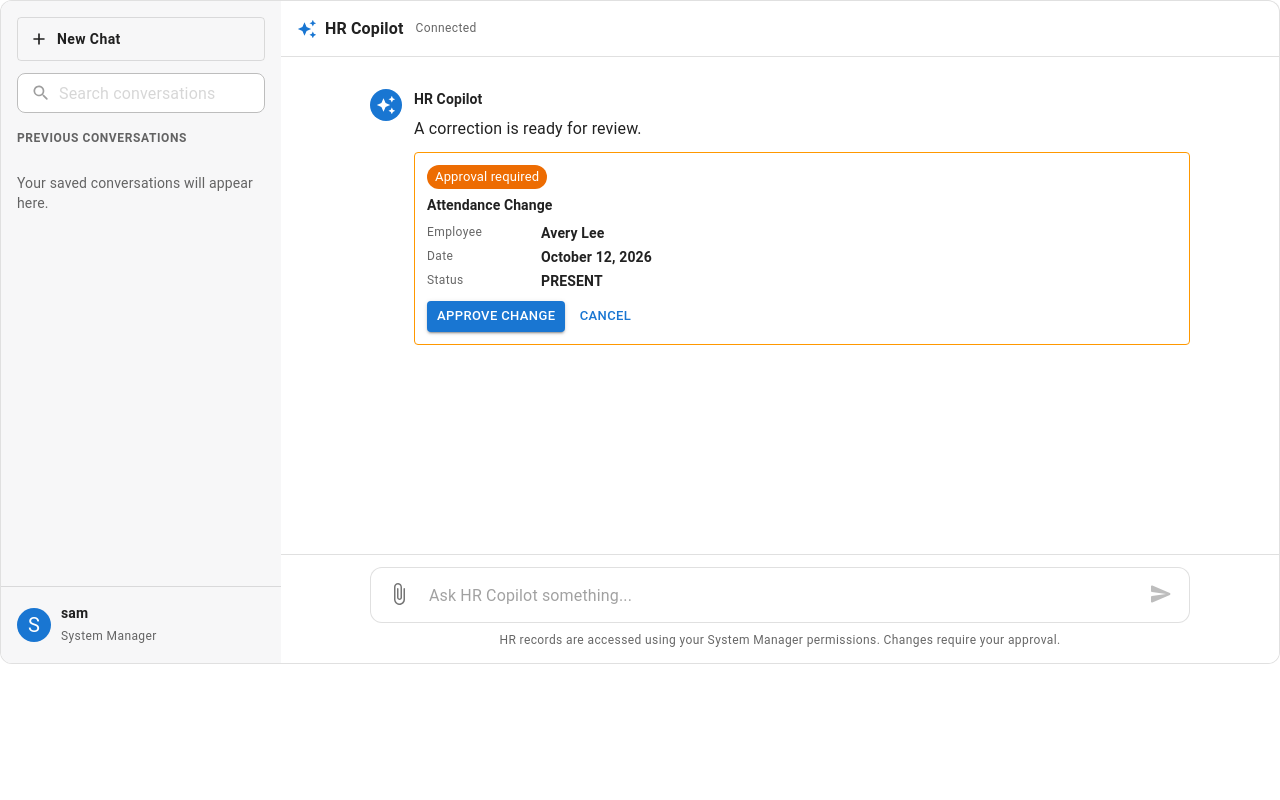
Scenario: restores and cancels a pending approval while preserving its response
Expected: the text "A correction is ready for review." is shown, [414, 119, 642, 138]
Expected: the text "Avery Lee" is shown, [541, 225, 604, 241]
Click the button "Cancel". click: {"x": 605, "y": 317}
box: [573, 301, 637, 332]
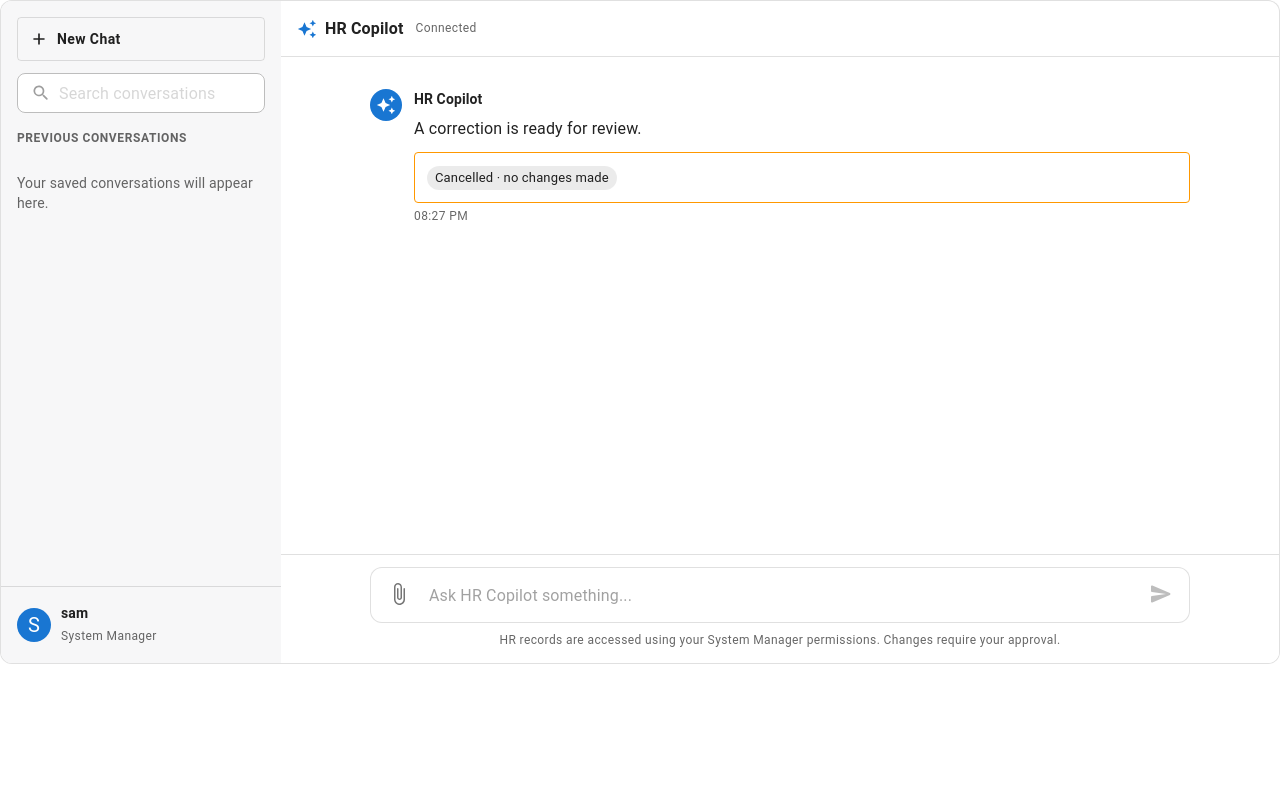
Expected: the text "A correction is ready for review." is shown, [414, 119, 642, 138]
Now the text "Cancelled · no changes made" is shown, box [427, 168, 617, 188]
